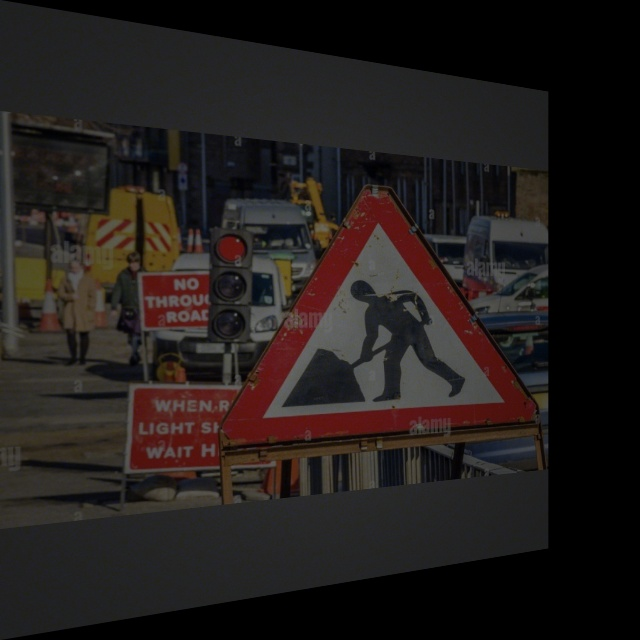Men_at_Work: (244, 183, 518, 450)
